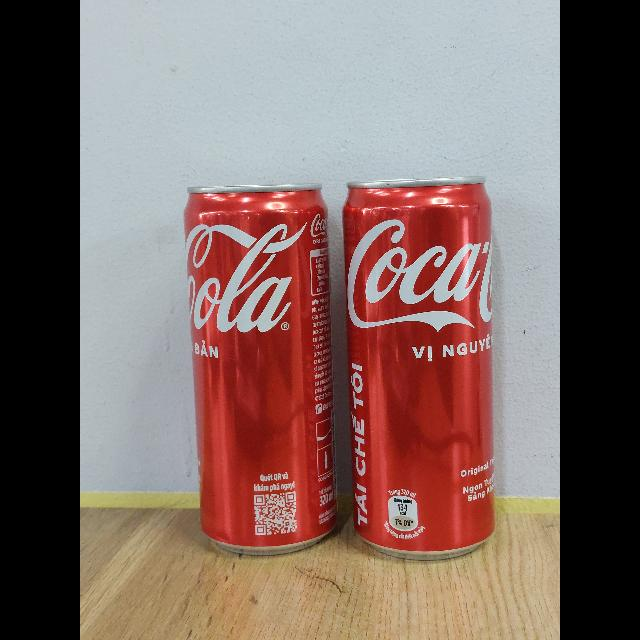coca_cola: (342, 180, 496, 560), (183, 186, 339, 560)
